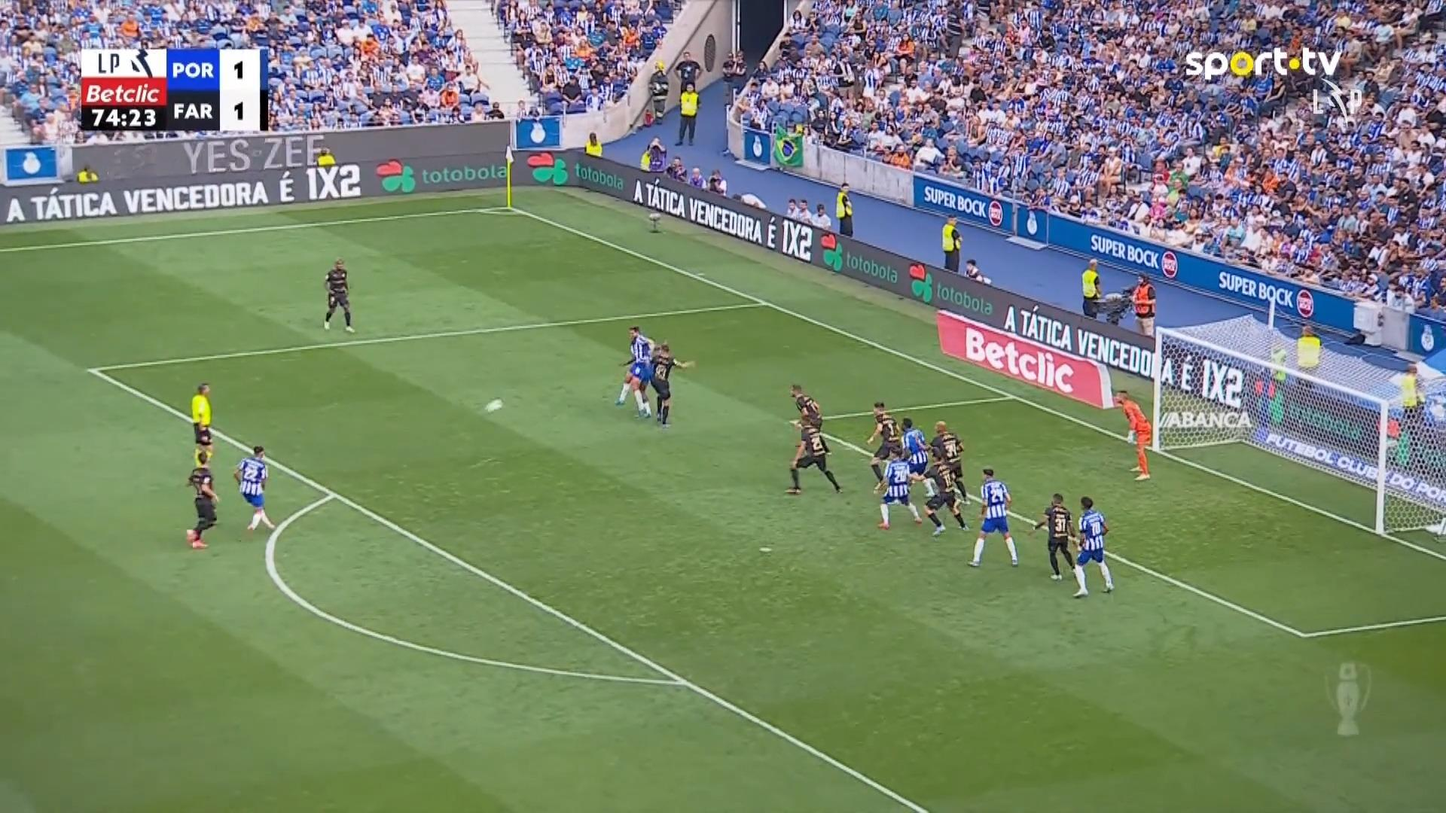ball: (484, 397, 502, 413)
goalkeeper: (1112, 388, 1152, 481)
player: (966, 466, 1019, 567), (1027, 492, 1078, 581), (784, 417, 842, 495), (912, 459, 969, 536), (1071, 495, 1114, 597), (1387, 361, 1427, 466), (648, 342, 696, 428), (874, 446, 923, 529), (615, 324, 656, 418), (233, 444, 276, 531), (928, 419, 969, 506), (865, 400, 902, 493), (185, 449, 219, 548), (899, 416, 935, 503), (788, 383, 822, 461), (322, 257, 355, 333)
referee: (190, 382, 214, 468)
